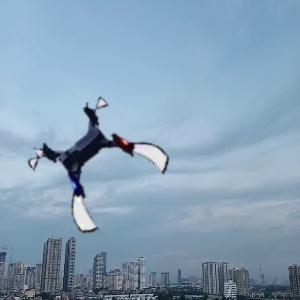drone: (41, 104, 161, 224)
